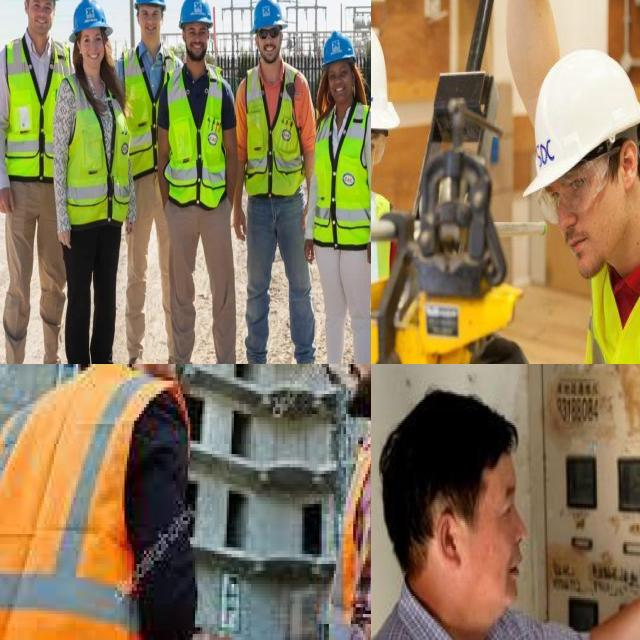No_Ear-Protection: (435, 510, 463, 571), (616, 132, 639, 195)
No_Glasses: (492, 488, 532, 524)
face_nomask: (379, 390, 516, 573), (542, 174, 624, 276), (463, 520, 525, 610), (338, 364, 371, 414), (80, 28, 108, 68), (256, 29, 286, 64), (328, 67, 354, 106), (30, 0, 56, 37), (185, 25, 209, 64), (140, 7, 162, 41)
glasses: (530, 156, 607, 226)
hand_glove: (470, 332, 539, 364), (314, 364, 355, 400)
hand_noglove: (233, 205, 250, 242), (0, 186, 17, 218), (303, 239, 319, 267), (367, 239, 371, 266)
head_helmet: (518, 45, 640, 190), (371, 3, 398, 130), (71, 0, 112, 33), (321, 31, 355, 65), (251, 0, 286, 33), (180, 0, 215, 24), (131, 0, 166, 10)
head_nohelmet: (379, 390, 516, 573)
person: (0, 364, 202, 640), (540, 53, 640, 364), (236, 0, 309, 364), (2, 0, 69, 364), (165, 0, 232, 364), (63, 0, 126, 364), (312, 30, 371, 364), (127, 0, 174, 364), (314, 364, 371, 640)
shoes: (289, 351, 319, 364), (124, 351, 149, 364), (239, 354, 266, 364)
vest: (0, 377, 170, 640), (66, 72, 130, 222), (329, 420, 371, 640), (6, 37, 66, 178), (167, 64, 227, 205), (315, 99, 370, 245), (244, 64, 300, 193), (127, 45, 172, 175)
